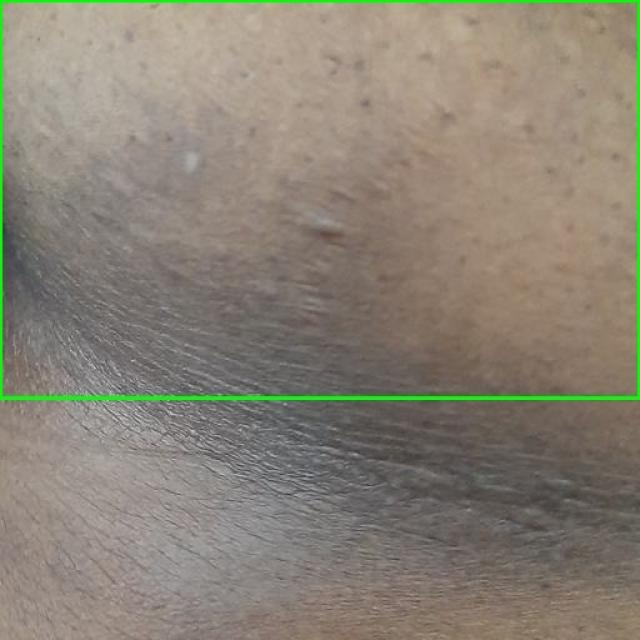Tinea Corporis: (0, 0, 639, 398)
